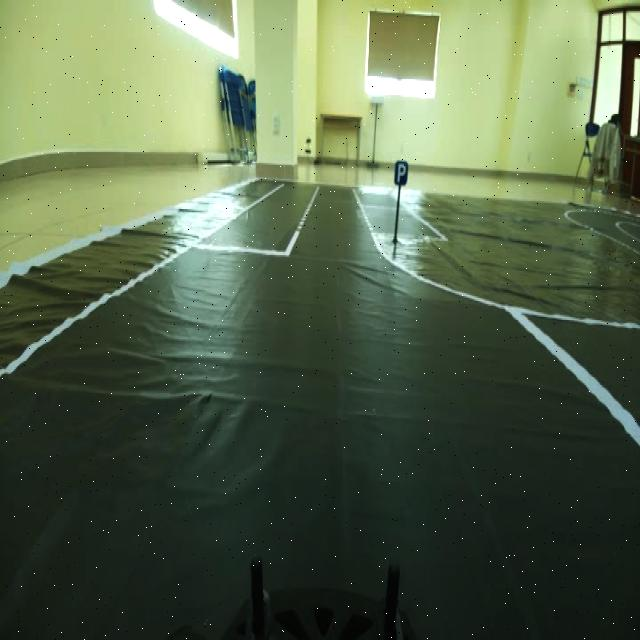parking: (384, 150, 414, 192)
